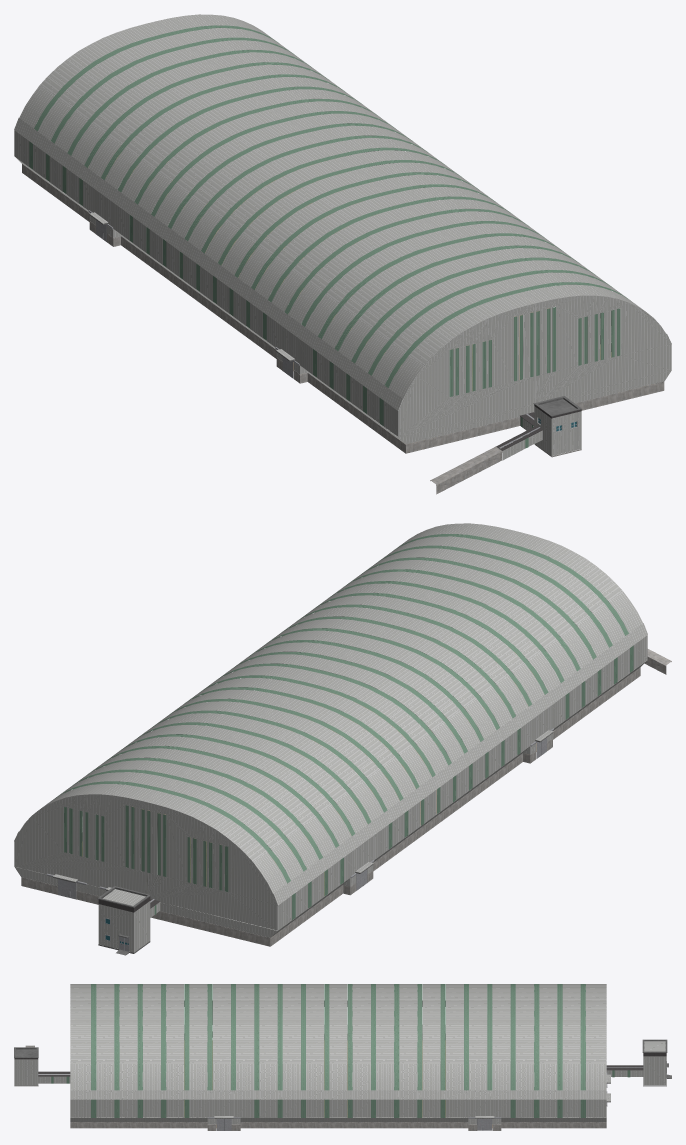
Rendered from 原料大棚.glb.
3 views of the same model, one above another, from view 1: azimuth 30°, elevation 25°; view 2: azimuth 150°, elevation 25°; view 3: azimuth 270°, elevation 25° (orthographic). The views are drawn at different scales.
Visible parts, largest first — view 1: 原料大棚001, 原料大棚002, 原料大棚004; view 2: 原料大棚001, 原料大棚002, 原料大棚004, 原料大棚006; view 3: 原料大棚001, 原料大棚002, 原料大棚004, 原料大棚003, 原料大棚005, 原料大棚006, 原料大棚008.
Part boxes in pixels (x1,y1,x2,y2): 原料大棚001: [14, 14, 671, 460]; 原料大棚002: [29, 25, 630, 448]; 原料大棚004: [22, 136, 664, 494]; 原料大棚001: [14, 523, 647, 952]; 原料大棚002: [56, 534, 633, 919]; 原料大棚004: [21, 649, 671, 946]; 原料大棚006: [46, 679, 553, 951]; 原料大棚001: [14, 984, 666, 1124]; 原料大棚002: [51, 984, 630, 1117]; 原料大棚004: [14, 1031, 606, 1130]; 原料大棚003: [14, 1039, 671, 1118]; 原料大棚005: [14, 1053, 666, 1076]; 原料大棚006: [38, 1061, 666, 1130]; 原料大棚008: [184, 1040, 492, 1127].
Bounding box in the file's own units: 89.91 × 41.23 × 258.
8 materials, 8 textured.
